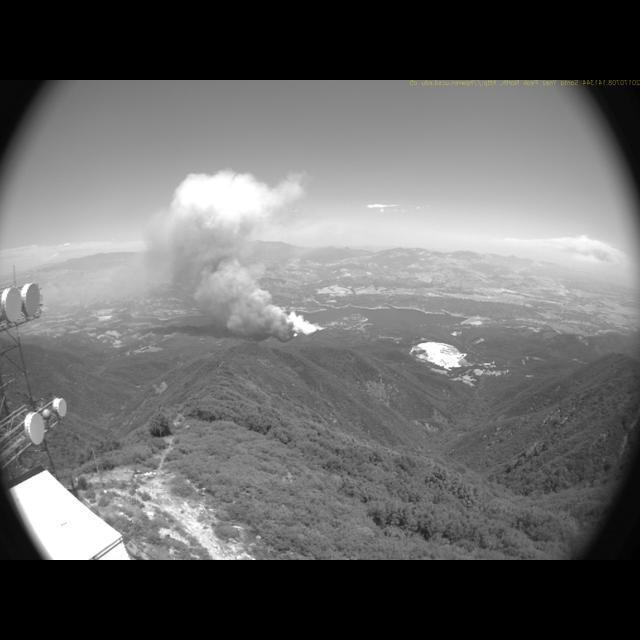Smoke: (144, 170, 323, 338)
